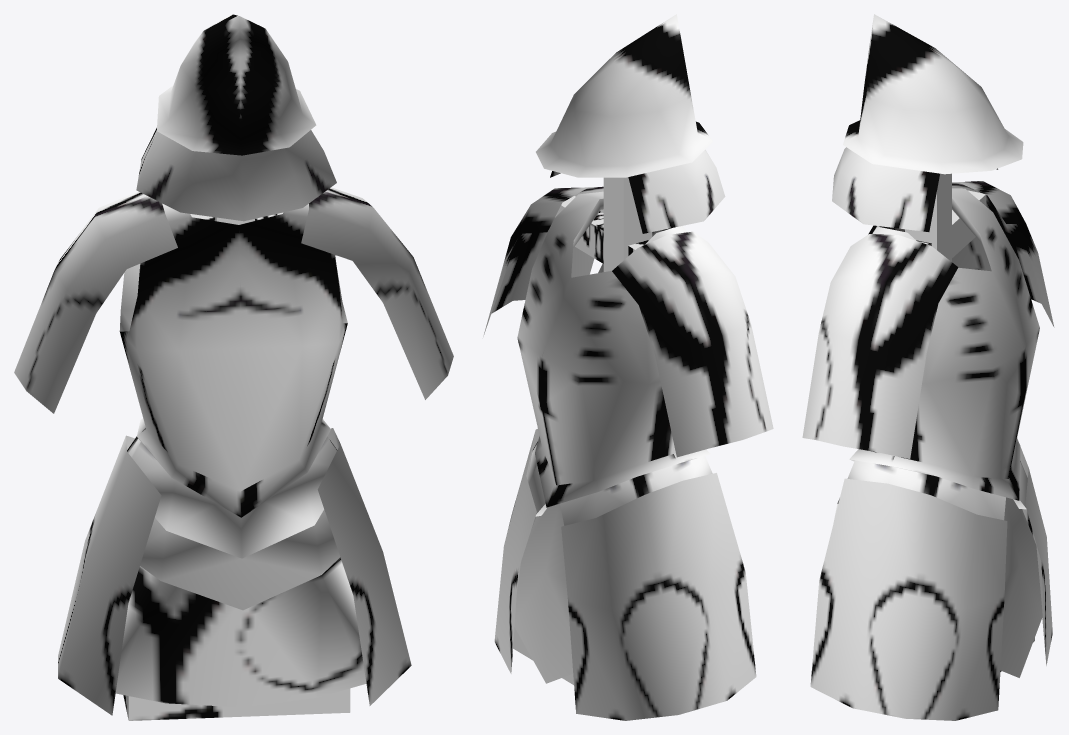
File: saveicon.ico.obj
The picture shows the model from 3 angles, left to right: view 1: azimuth 30°, elevation 25°; view 2: azimuth 150°, elevation 25°; view 3: azimuth 270°, elevation 25°; orthographic projection. The views are drawn at different scales.
Bounding box in the file's own units: 2.64 × 4.95 × 1.75.
